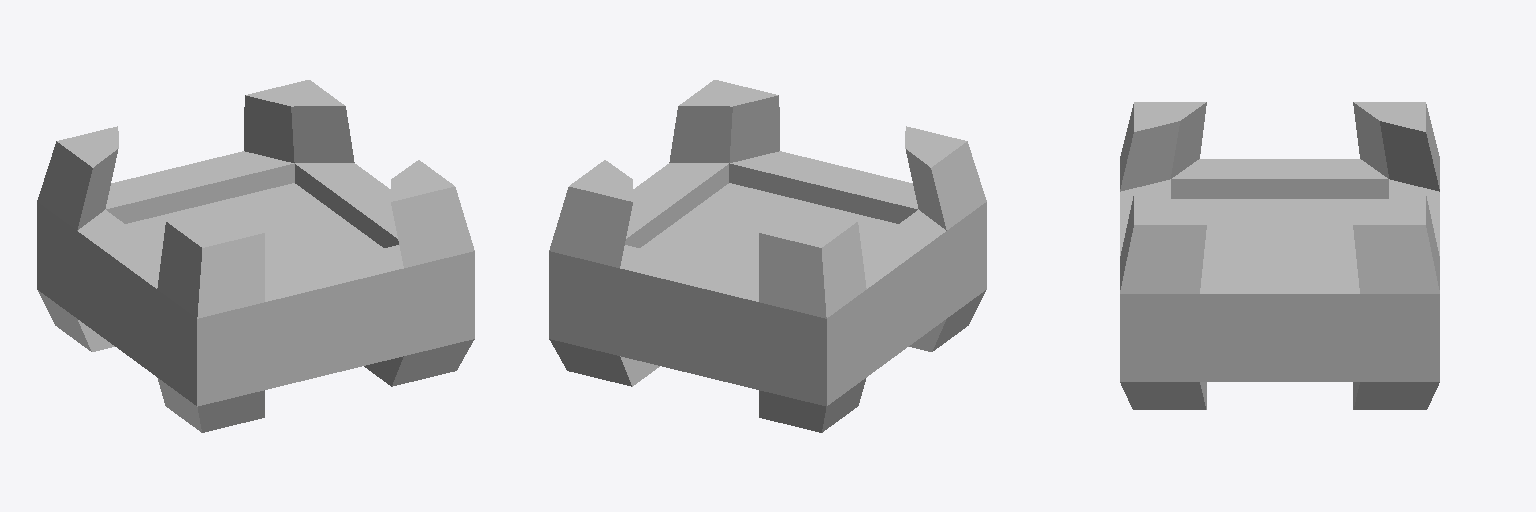
File: bolthead.obj
3 views of the same model, side by side, from view 1: azimuth 30°, elevation 25°; view 2: azimuth 150°, elevation 25°; view 3: azimuth 270°, elevation 25° (orthographic).
Visible parts, largest first — view 1: Cube; view 2: Cube; view 3: Cube.
Part boxes in pixels (x1,y1,x2,y2): Cube: (37, 80, 474, 432); Cube: (549, 80, 986, 432); Cube: (1120, 102, 1439, 409).
Size of the model in its own units: 2 by 1.27 by 2.